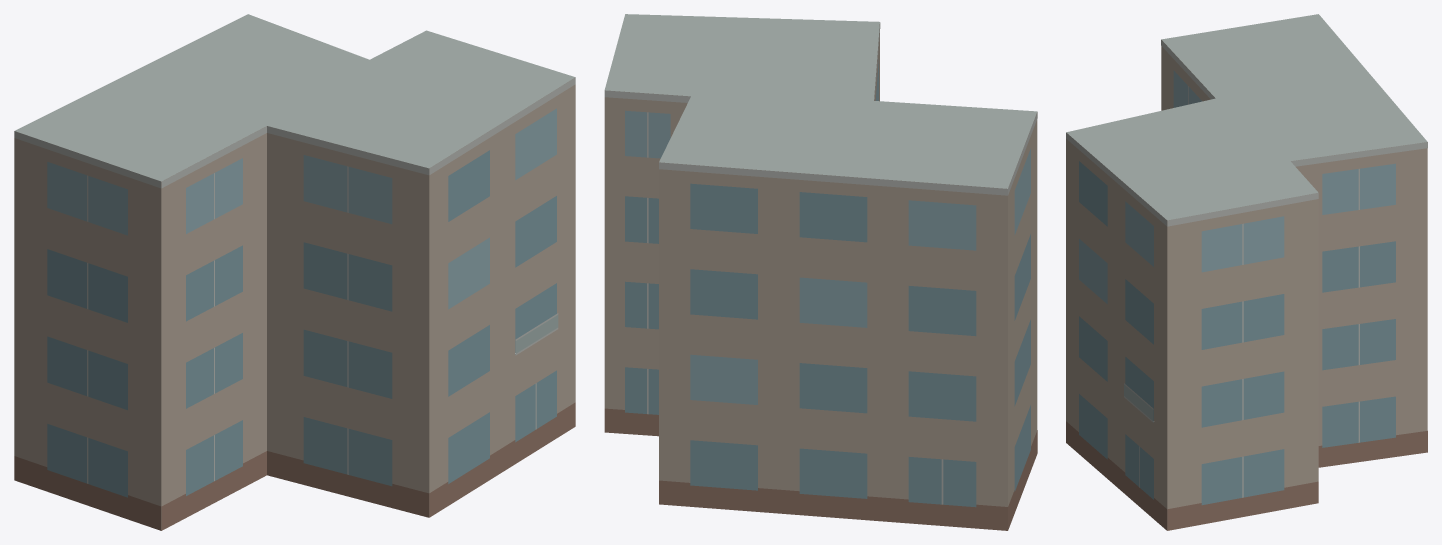
The model's file is survey-upis-32638603.glb.
3 views of the same model, side by side, from view 1: azimuth 30°, elevation 25°; view 2: azimuth 150°, elevation 25°; view 3: azimuth 270°, elevation 25° (orthographic). The views are drawn at different scales.
Visible parts, largest first — view 1: survey-upis-32638603.tmp; view 2: survey-upis-32638603.tmp; view 3: survey-upis-32638603.tmp.
Boxes of the visible parts, box(x1,y1,x2,y2) form: survey-upis-32638603.tmp: box(14, 14, 575, 530); survey-upis-32638603.tmp: box(604, 14, 1037, 530); survey-upis-32638603.tmp: box(1066, 14, 1427, 530).
Size of the model in its own units: 17.41 by 12.2 by 12.89.
